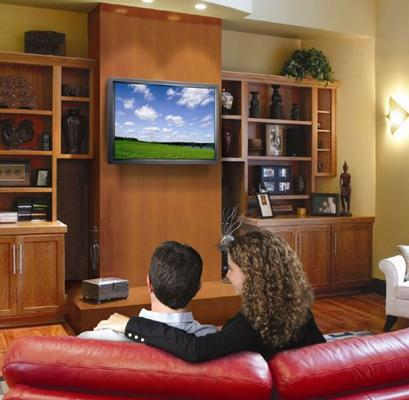person: (74, 240, 219, 354)
